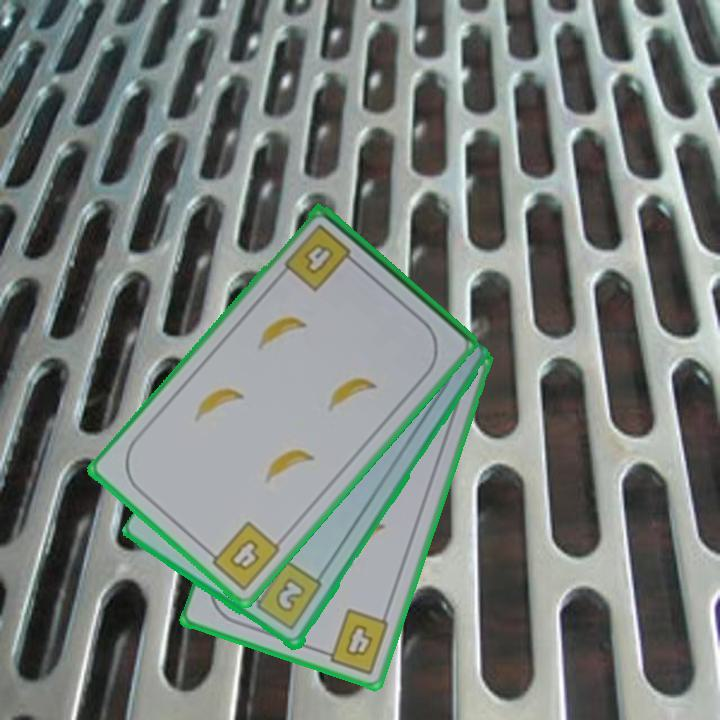2b: (246, 558, 325, 634)
4b: (201, 518, 284, 594), (280, 220, 361, 295), (316, 605, 392, 677)
